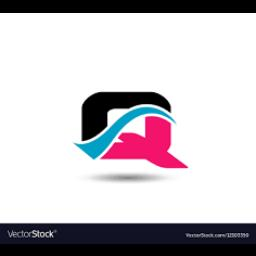q: (70, 85, 190, 171)
